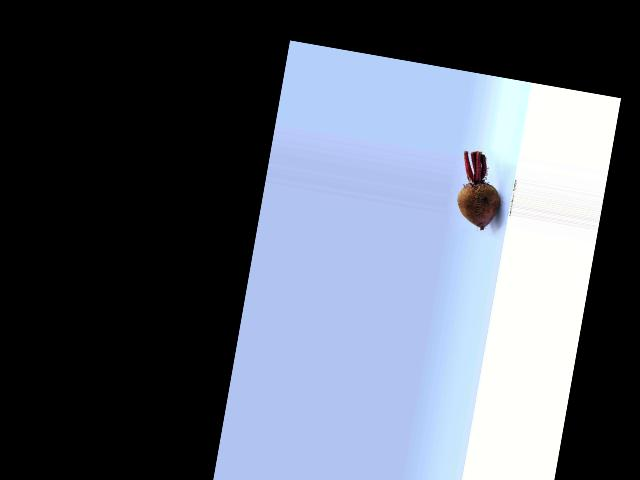beet: (452, 150, 507, 231)
